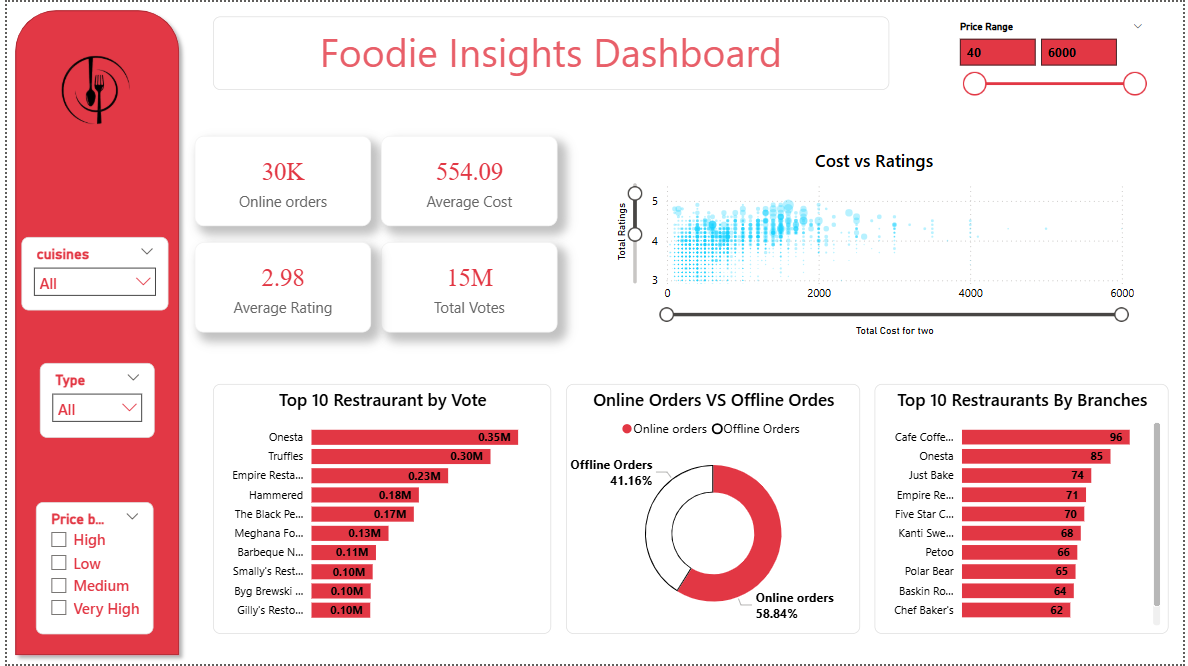

The page's visual inventory and layout, read from the dashboard file:
{"tool":"powerbi","page":{"name":"Page 6","canvas":[1280,720],"ordinal":0},"visuals":[{"type":"card","fields":{"Values":["_measures.Total Votes"]},"box":[236.5,34.2,191.9,98.2],"z":1000},{"type":"card","fields":{"Values":["_measures.Average Rating"]},"box":[780.9,138.3,191.9,98.2],"z":2000},{"type":"card","fields":{"Values":["_measures.Average Cost"]},"box":[797.2,23.8,191.9,98.2],"z":3000},{"type":"card","fields":{"Values":["_measures.Online orders"]},"box":[522.1,34.2,191.9,98.2],"z":4000},{"type":"pieChart","title":"Online Orders VS Offline Ordes","fields":{"Y":["_measures.Online orders","_measures.Offline Orders"]},"box":[435.8,154.7,296,273.7],"z":5000},{"type":"clusteredBarChart","title":"Top 10 Restraurants By Branches","fields":{"Category":["Fact table.name"],"Y":["_measures.Total Outlets"]},"box":[876.1,426.9,312.4,273.7],"z":6000},{"type":"scatterChart","title":"Cost vs Ratings","fields":{"X":["Sum(Fact table.cost_for_two)"],"Y":["Sum(Fact table.rate)"],"Category":["Fact table.rest_id"],"Size":["Sum(Fact table.votes)"]},"box":[205.3,236.5,446.2,181.5],"z":7000},{"type":"clusteredBarChart","title":"Top 10 Restraurant by Vote","fields":{"Category":["Fact table.name"],"Y":["Sum(Fact table.votes)"]},"box":[339.1,462.6,374.8,202.3],"z":8000},{"type":"shape","box":[16.4,0,177,719.9],"z":8002}]}

Visuals, with their boxes in screenshot pixels (x1, y1, x2, y2), scaled from the page's 1280x720 canvas onto the 1188x666 screenshot:
card - _measures.Total Votes: (x1=220, y1=32, x2=398, y2=122)
card - _measures.Average Rating: (x1=725, y1=128, x2=903, y2=219)
card - _measures.Average Cost: (x1=740, y1=22, x2=918, y2=113)
card - _measures.Online orders: (x1=485, y1=32, x2=663, y2=122)
"Online Orders VS Offline Ordes" pieChart: (x1=404, y1=143, x2=679, y2=396)
"Top 10 Restraurants By Branches" clusteredBarChart: (x1=813, y1=395, x2=1103, y2=648)
"Cost vs Ratings" scatterChart: (x1=191, y1=219, x2=605, y2=387)
"Top 10 Restraurant by Vote" clusteredBarChart: (x1=315, y1=428, x2=663, y2=615)
shape: (x1=15, y1=0, x2=179, y2=665)
